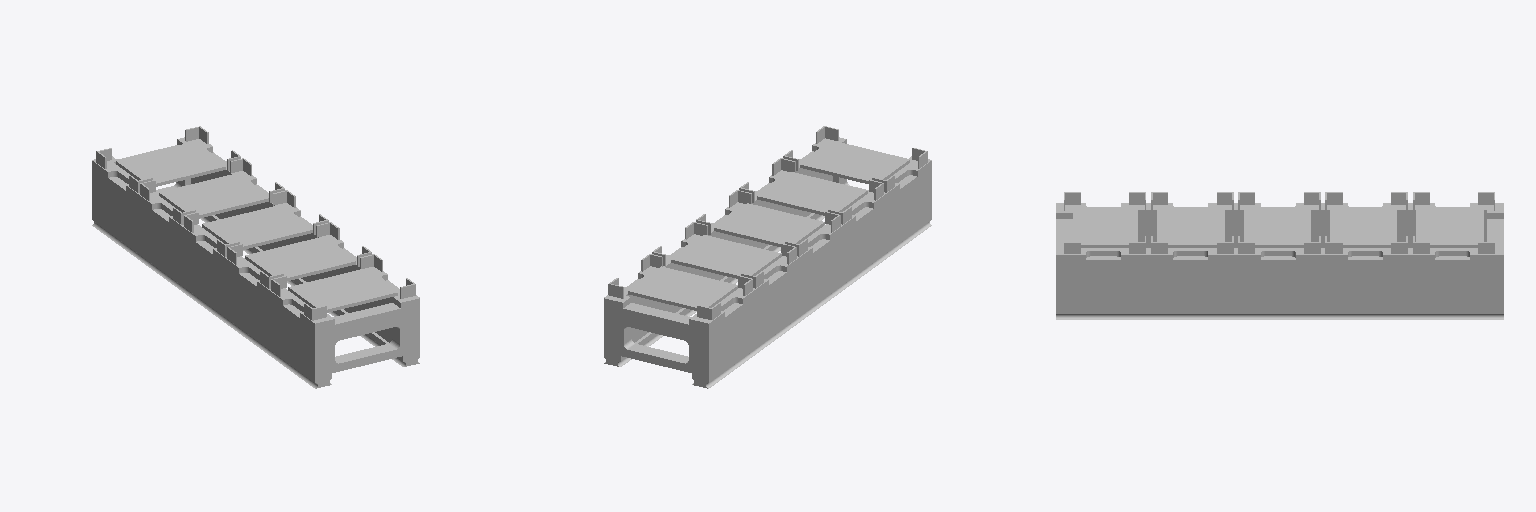
File: PLT_CAR_L5AC_A00.obj
3 renders of one model, left to right at view 1: azimuth 30°, elevation 25°; view 2: azimuth 150°, elevation 25°; view 3: azimuth 270°, elevation 25°, orthographic.
Parts seen in each view (by area): view 1: plate_carrier; view 2: plate_carrier; view 3: plate_carrier.
Part boxes in pixels (x1,y1,x2,y2): plate_carrier: (92,126,419,388); plate_carrier: (604,126,931,388); plate_carrier: (1056,192,1503,319).
Bounding box in the file's own units: 0.27 × 0.188 × 0.994.